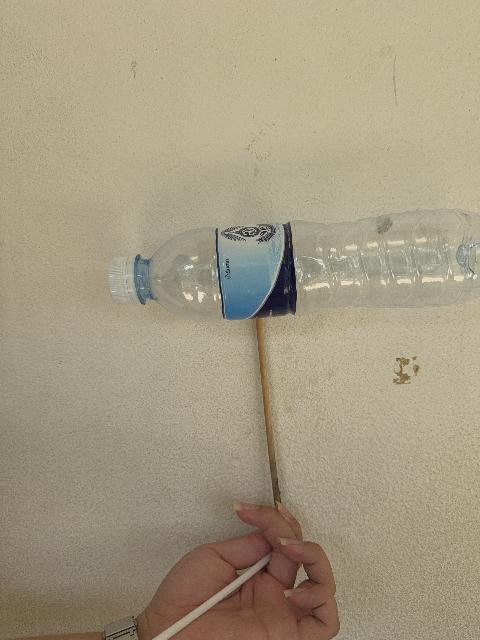bottle: (108, 210, 479, 321)
